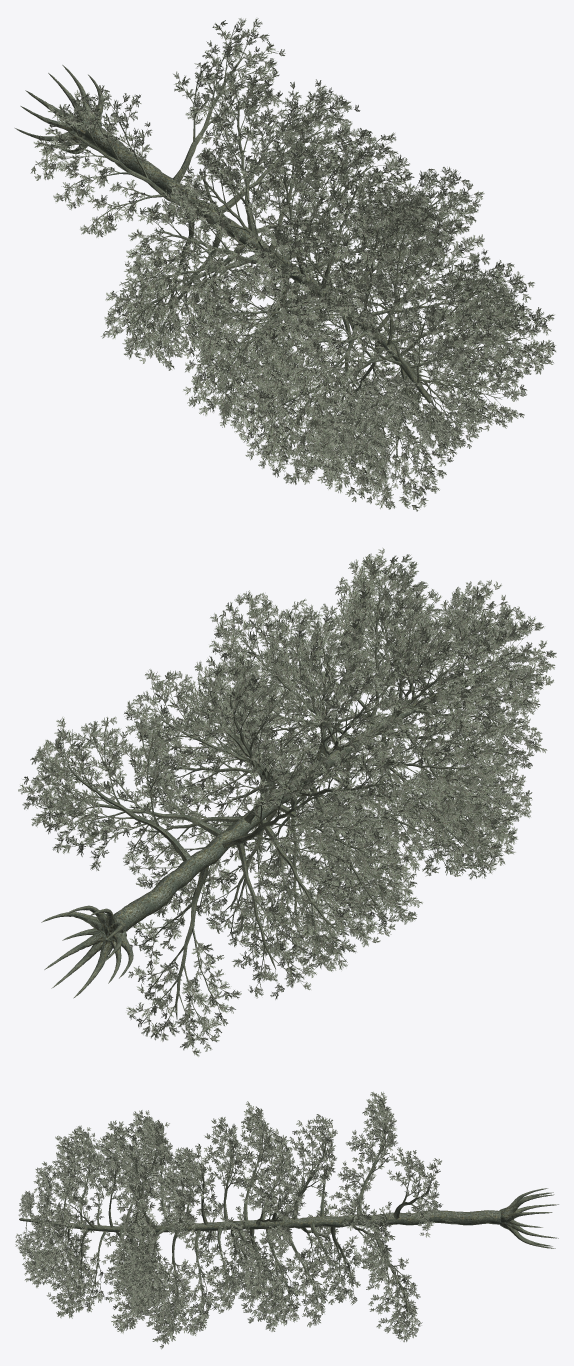
3 views of the same model, one above another, from view 1: azimuth 30°, elevation 25°; view 2: azimuth 150°, elevation 25°; view 3: azimuth 270°, elevation 25° (orthographic). The views are drawn at different scales.
Parts seen in each view (by area): view 1: CL13a; view 2: CL13a; view 3: CL13a.
Part boxes in pixels (x1,y1,x2,y2): CL13a: (15, 18, 556, 511); CL13a: (18, 548, 556, 1056); CL13a: (15, 1091, 558, 1349).
Size of the model in its own units: 10.75 by 10.22 by 21.88.
Materials: 2 (2 with a texture image).
